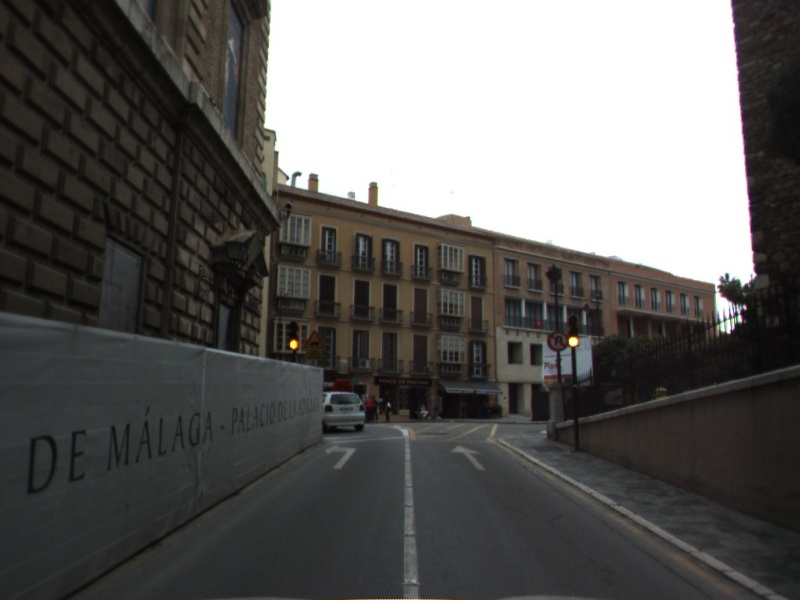LEFT: (323, 443, 358, 471)
STRAIGHT: (449, 443, 487, 472)
